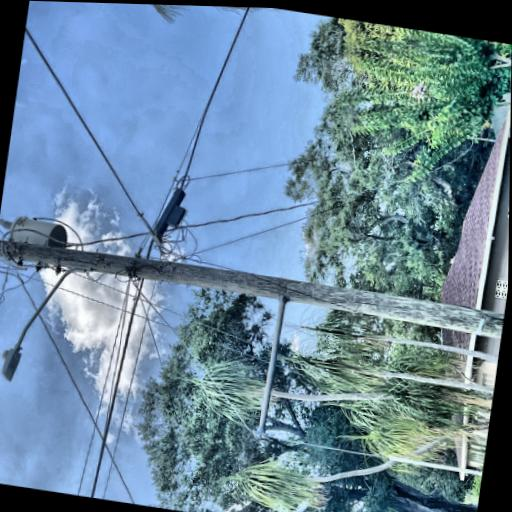pole: (54, 2, 151, 497)
street light: (2, 107, 119, 211)
transformer: (111, 110, 155, 185)
